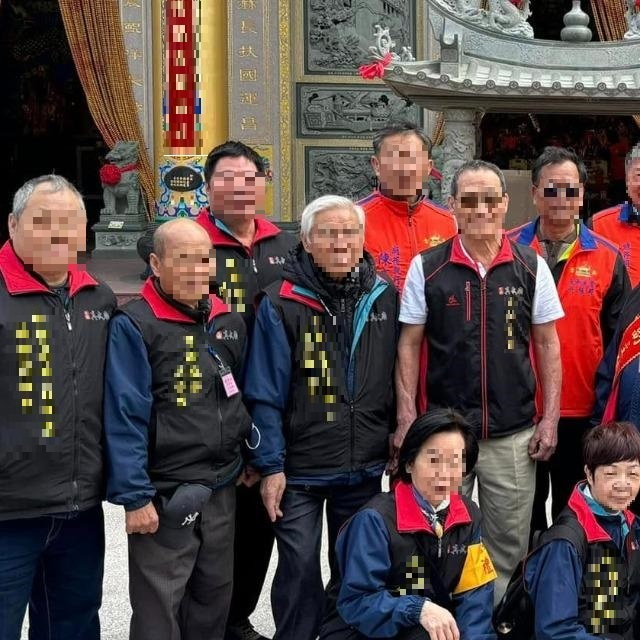NoHelmet: (7, 172, 92, 272), (149, 219, 223, 305), (297, 194, 371, 276), (201, 141, 269, 221), (450, 159, 513, 240)
NoVest: (108, 291, 256, 489), (409, 236, 555, 427)
